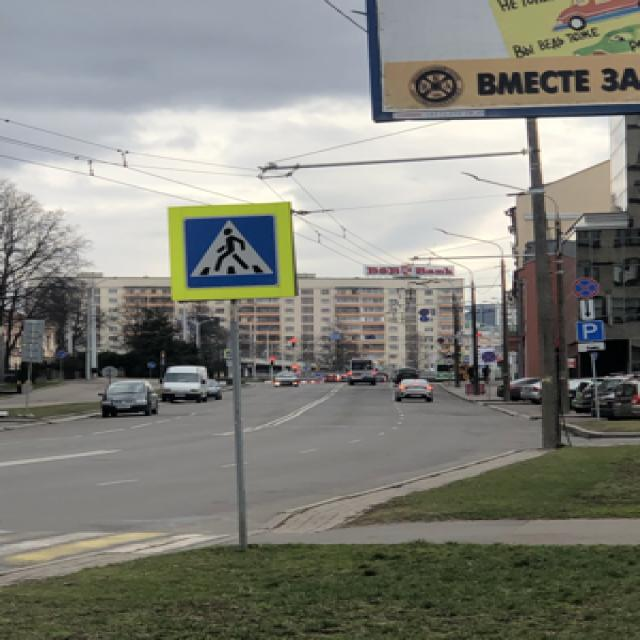crosswalk: (180, 211, 278, 288)
